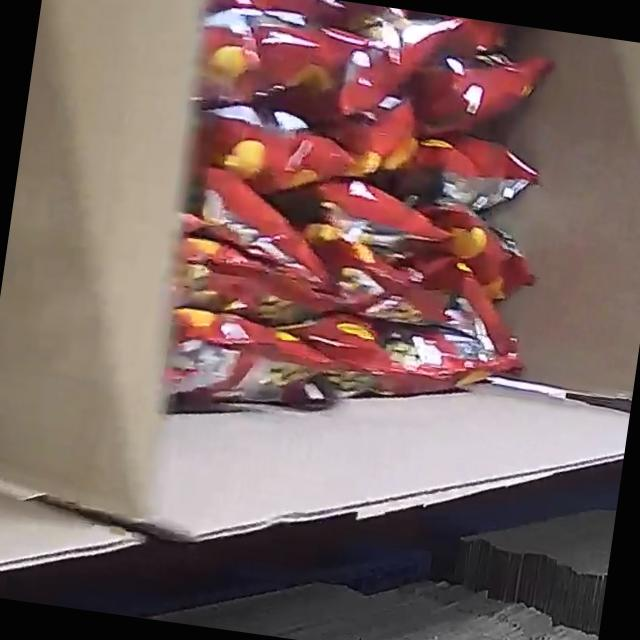masala: (148, 0, 577, 450)
